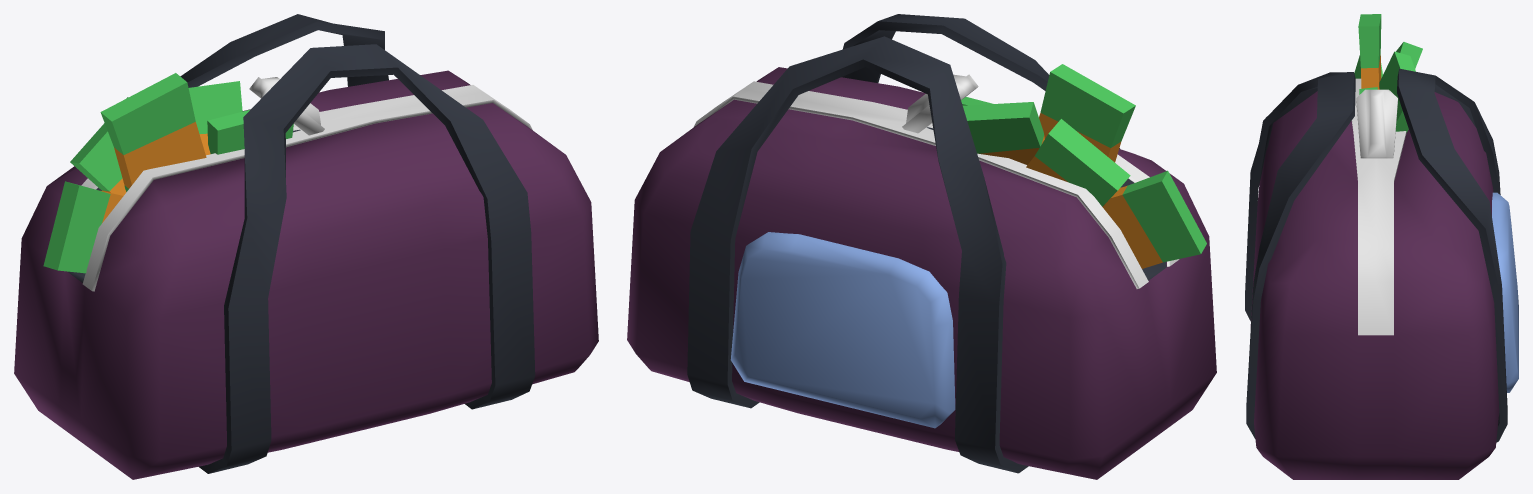
Rendered from SM_Item_02.fbx.
3 renders of one model, left to right at view 1: azimuth 30°, elevation 25°; view 2: azimuth 150°, elevation 25°; view 3: azimuth 270°, elevation 25°, orthographic. The views are drawn at different scales.
Parts seen in each view (by area): view 1: Box2422.001; view 2: Box2422.001; view 3: Box2422.001.
Part boxes in pixels (x1,y1,x2,y2): Box2422.001: (14, 14, 598, 479); Box2422.001: (627, 14, 1216, 479); Box2422.001: (1245, 14, 1518, 479).
Size of the model in its own units: 2.91 by 2 by 1.56.
